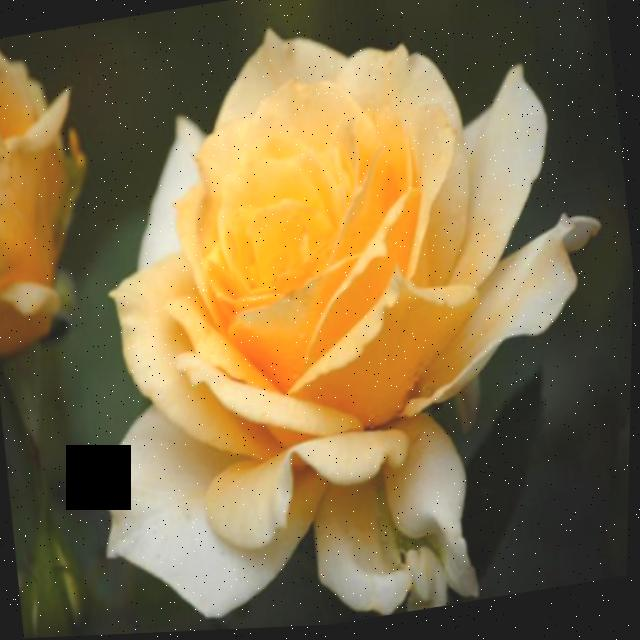rose: (48, 0, 630, 638)
